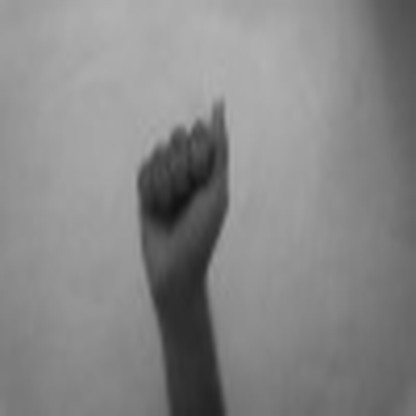a: (122, 80, 238, 280)
